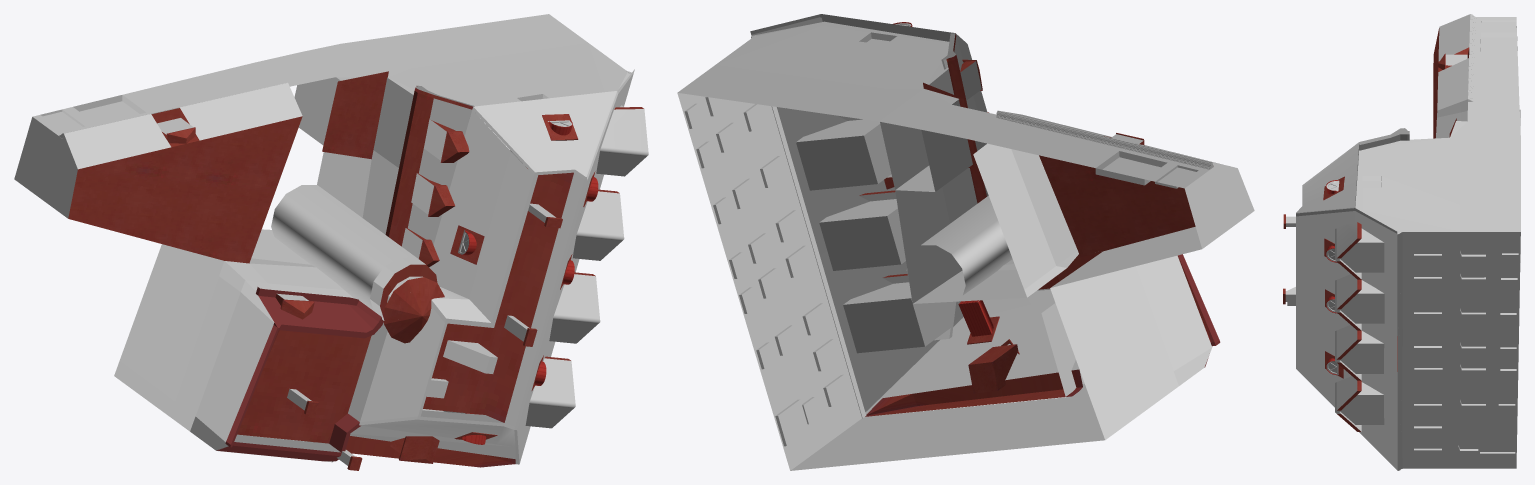
File: Toom-Ryytli_7.obj
3 views of the same model, side by side, from view 1: azimuth 30°, elevation 25°; view 2: azimuth 150°, elevation 25°; view 3: azimuth 270°, elevation 25° (orthographic). The views are drawn at different scales.
Parts seen in each view (by area): view 1: Plane01; view 2: Plane01; view 3: Plane01.
Boxes of the visible parts, x1,y1,x2,y2 form: Plane01: [14, 14, 648, 470]; Plane01: [677, 14, 1254, 470]; Plane01: [1283, 14, 1520, 470].
Bounding box in the file's own units: 35.62 × 24.94 × 17.59.
